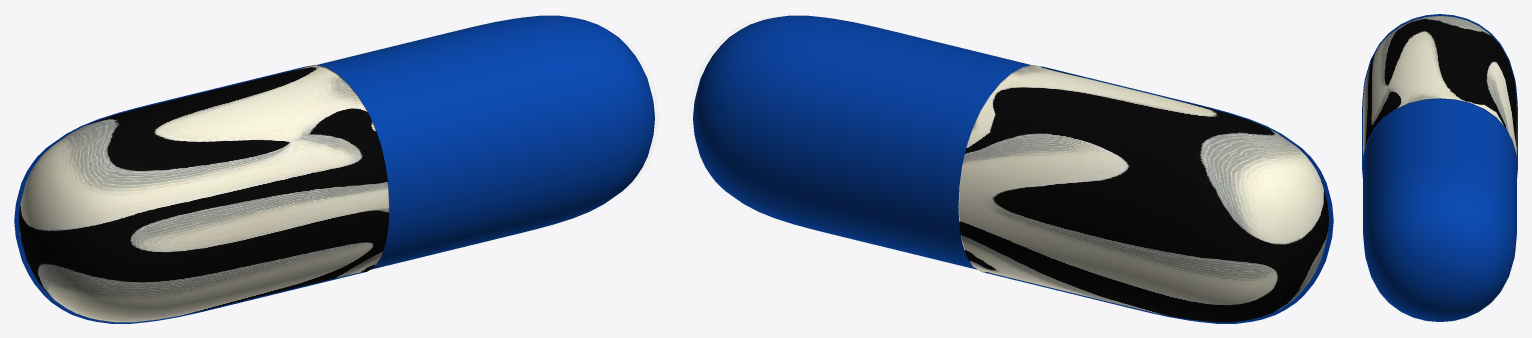
Rendered from Pills3.glb.
3 views of the same model, side by side, from view 1: azimuth 30°, elevation 25°; view 2: azimuth 150°, elevation 25°; view 3: azimuth 270°, elevation 25° (orthographic). The views are drawn at different scales.
Visible parts, largest first — view 1: PillSplit, PillSplit.001; view 2: PillSplit, PillSplit.001; view 3: PillSplit.001, PillSplit.
Boxes of the visible parts, left/top/right/bottom form: PillSplit: left=14, top=65, right=389, bottom=323; PillSplit.001: left=308, top=14, right=659, bottom=271; PillSplit: left=958, top=65, right=1333, bottom=323; PillSplit.001: left=688, top=14, right=1039, bottom=271; PillSplit.001: left=1362, top=98, right=1517, bottom=323; PillSplit: left=1362, top=14, right=1517, bottom=167.
Bounding box in the file's own units: 1.34 × 0.3971 × 0.3971.
4 materials, 1 textured.
